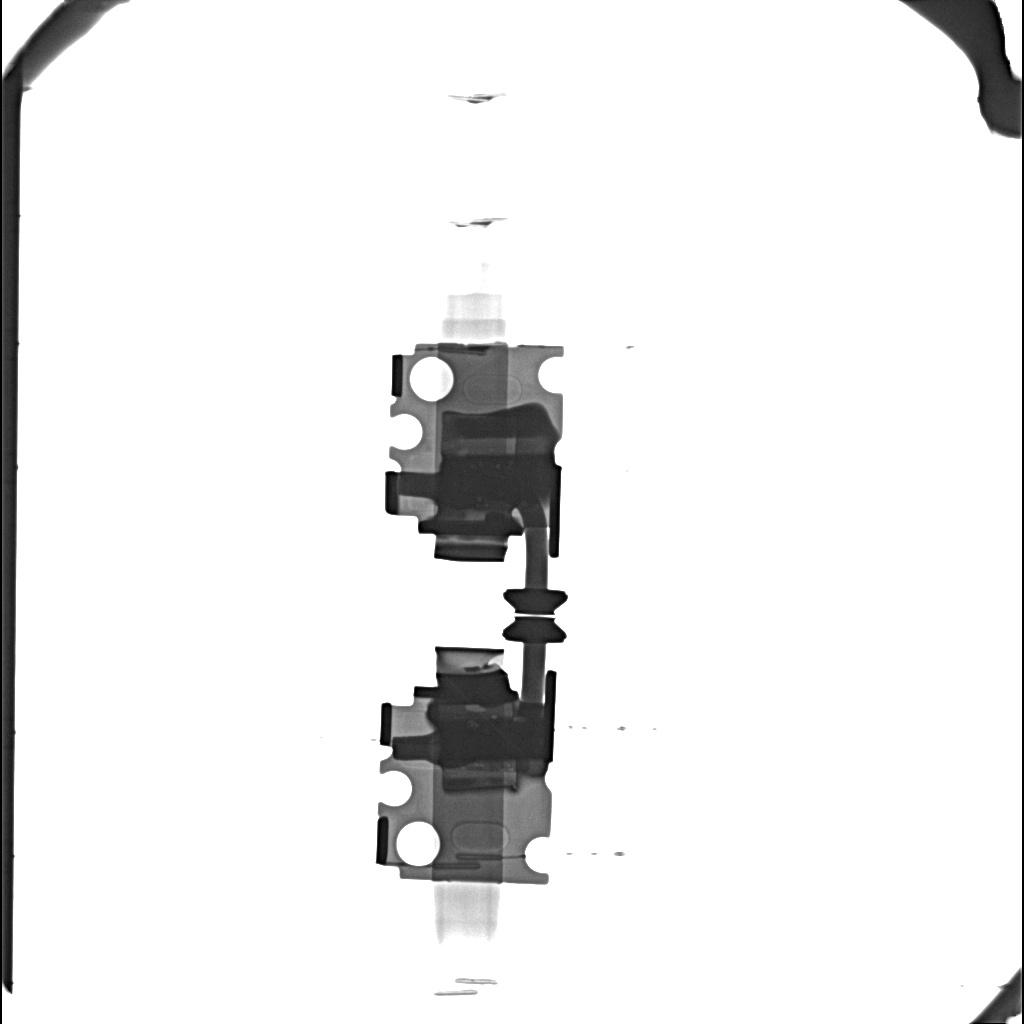PX: (439, 412, 521, 453), (441, 761, 518, 792)
QP: (467, 704, 486, 712)
SX: (439, 454, 550, 505), (439, 719, 539, 764)
